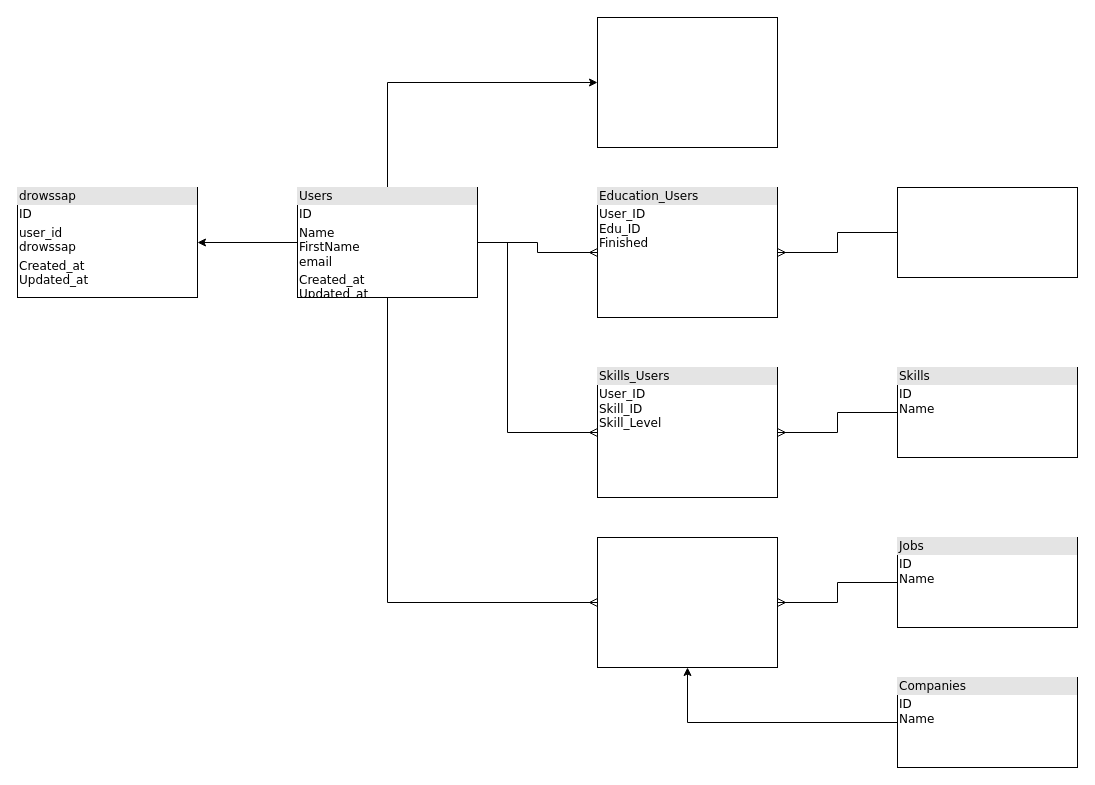
Image size: 1095x785. Some labels were removed from this diagram. Here are the shapes that lost their labels. From the top down, the centre of each, then its label:
point 687,82: Profile User_ID Pfp Bio Jobtitle
point 987,232: Education ID Name
point 687,602: Jobs_Users User_ID Job_ID Company_ID Started_at Stopped_at
